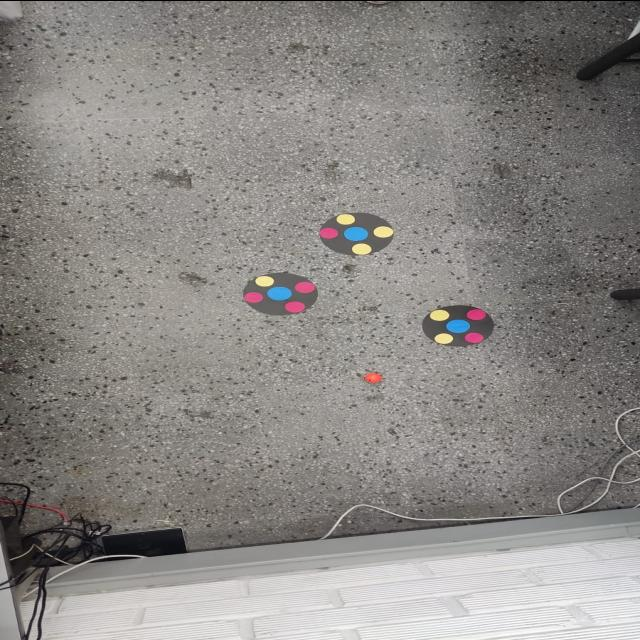0: (241, 271, 319, 315)
1: (419, 303, 496, 346)
2: (318, 210, 396, 254)
Ball: (363, 371, 385, 383)
